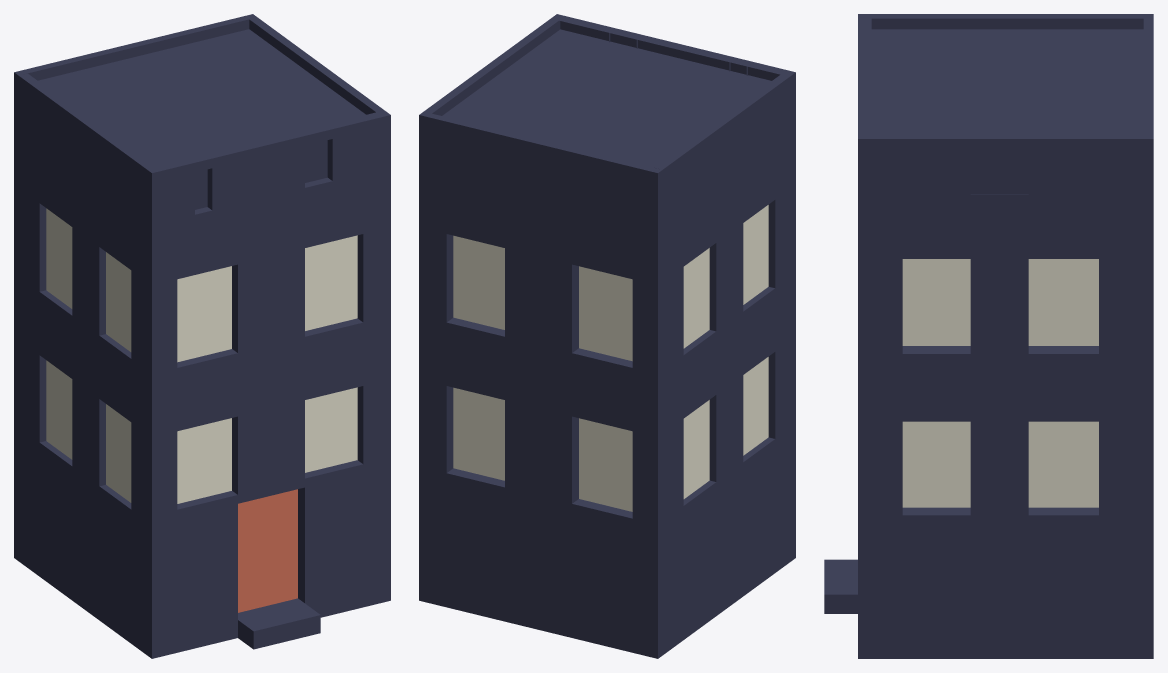
Rendered from multifam.glb.
3 renders of one model, left to right at view 1: azimuth 30°, elevation 25°; view 2: azimuth 150°, elevation 25°; view 3: azimuth 270°, elevation 25°, orthographic. The views are drawn at different scales.
Parts seen in each view (by area): view 1: Cube; view 2: Cube; view 3: Cube.
Boxes of the visible parts, <box> form: Cube: <box>14,14,390,658</box>; Cube: <box>419,14,795,658</box>; Cube: <box>824,14,1153,658</box>.
Bounding box in the file's own units: 2 × 3.89 × 2.23.
